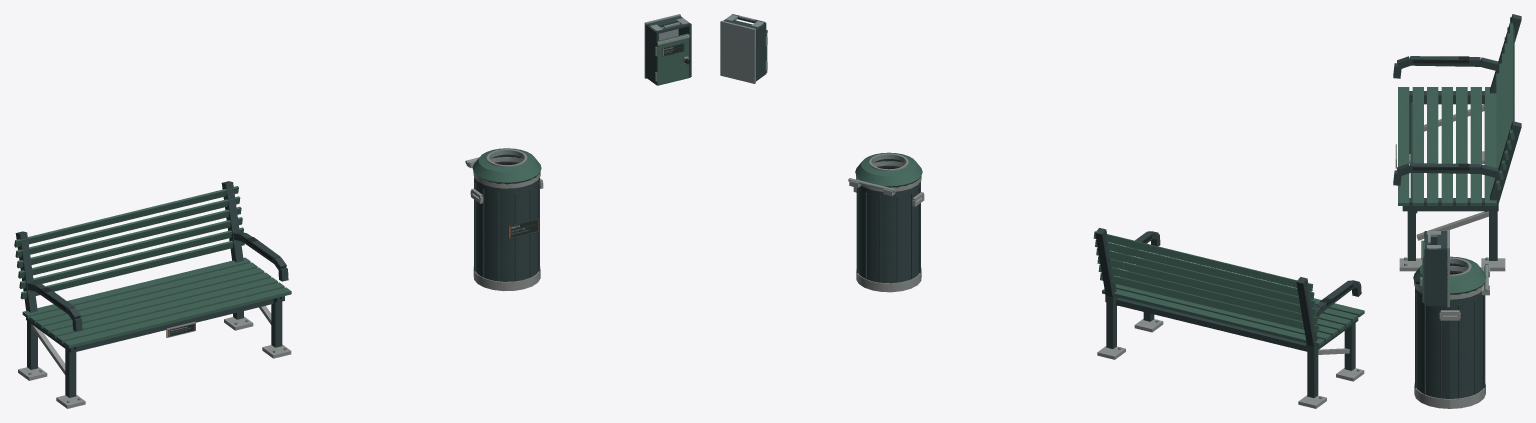
File: PZ_StreetBench_TrashCan.glb
The picture shows the model from 3 angles, left to right: view 1: azimuth 30°, elevation 25°; view 2: azimuth 150°, elevation 25°; view 3: azimuth 270°, elevation 25°; orthographic projection. The views are drawn at different scales.
Visible parts, largest first — view 1: RENDER_Bin_Body_FIXED_Body_HollowOpenSteelCylinder_SlatePowd, RENDER_Bench_Main_FIXED_SeatSlat_01_Separate_MossPowdercoat, RENDER_Bench_Main_FIXED_BackrestSlat_06_Separate_MossPowderc, RENDER_Bench_Main_FIXED_BackrestSlat_05_Separate_MossPowderc, RENDER_Bench_Main_FIXED_BackrestSlat_04_Separate_MossPowderc, RENDER_Bench_Main_FIXED_BackrestSlat_03_Separate_MossPowderc, RENDER_Bench_Main_FIXED_BackrestSlat_02_Separate_MossPowderc, RENDER_Bench_Main_FIXED_SeatSlat_02_Separate_MossPowdercoat, RENDER_Bench_Main_FIXED_BackrestSlat_01_Separate_MossPowderc, RENDER_Bench_Main_FIXED_SeatSlat_03_Separate_MossPowdercoat, RENDER_Bench_Main_FIXED_SeatSlat_04_Separate_MossPowdercoat, RENDER_Bench_Main_FIXED_SeatSlat_05_Separate_MossPowdercoat (+9 smaller); view 2: RENDER_Bin_Body_FIXED_Body_HollowOpenSteelCylinder_SlatePowd, RENDER_AshContainer_WallHousing_FIXED_WallMount_Backplate_St, RENDER_Bench_Main_FIXED_SeatSlat_07_Separate_MossPowdercoat, RENDER_Bench_Main_FIXED_BackrestSlat_02_Separate_MossPowderc, RENDER_Bench_Main_FIXED_BackrestSlat_01_Separate_MossPowderc, RENDER_Bench_Main_FIXED_BackrestSlat_03_Separate_MossPowderc, RENDER_Bench_Main_FIXED_BackrestSlat_04_Separate_MossPowderc, RENDER_Bench_Main_FIXED_BackrestSlat_05_Separate_MossPowderc, RENDER_Bench_Main_FIXED_BackrestSlat_06_Separate_MossPowderc, RENDER_Bench_Main_FIXED_CrossMember_+0.232_SlatePowdercoat, RENDER_Bin_Lid_HINGE_X_Lid_OverhangSlopedCover_MossPowdercoa, RENDER_Bench_Main_FIXED_SeatSlat_06_Separate_MossPowdercoat (+3 smaller); view 3: RENDER_Bin_Body_FIXED_Body_HollowOpenSteelCylinder_SlatePowd, RENDER_AshContainer_WallHousing_FIXED_Housing_RightWall_Slat, RENDER_Bench_Main_FIXED_SeatSlat_03_Separate_MossPowdercoat, RENDER_Bench_Main_FIXED_SeatSlat_04_Separate_MossPowdercoat, RENDER_Bench_Main_FIXED_SeatSlat_05_Separate_MossPowdercoat, RENDER_Bench_Main_FIXED_SeatSlat_06_Separate_MossPowdercoat, RENDER_Bench_Main_FIXED_SeatSlat_02_Separate_MossPowdercoat, RENDER_Bench_Main_FIXED_SeatSlat_01_Separate_MossPowdercoat, RENDER_Bench_Main_FIXED_SeatSlat_07_Separate_MossPowdercoat, RENDER_Bin_Lid_HINGE_X_Lid_OverhangSlopedCover_MossPowdercoa, RENDER_Bin_Body_FIXED_Base_ReinforcedSkirt_GalvanizedSteel, RENDER_Bench_Main_FIXED_RIGHT_SeatSideSupport_SlatePowdercoa (+34 smaller).
Boxes of the visible parts, x1,y1,x2,y2 form: RENDER_Bin_Body_FIXED_Body_HollowOpenSteelCylinder_SlatePowd: (474, 178, 539, 281); RENDER_Bench_Main_FIXED_SeatSlat_01_Separate_MossPowdercoat: (63, 287, 291, 348); RENDER_Bench_Main_FIXED_BackrestSlat_06_Separate_MossPowderc: (14, 186, 238, 247); RENDER_Bench_Main_FIXED_BackrestSlat_05_Separate_MossPowderc: (15, 196, 240, 257); RENDER_Bench_Main_FIXED_BackrestSlat_04_Separate_MossPowderc: (17, 206, 241, 268); RENDER_Bench_Main_FIXED_BackrestSlat_03_Separate_MossPowderc: (18, 217, 242, 278); RENDER_Bench_Main_FIXED_BackrestSlat_02_Separate_MossPowderc: (19, 227, 243, 288); RENDER_Bench_Main_FIXED_SeatSlat_02_Separate_MossPowdercoat: (56, 282, 284, 343); RENDER_Bench_Main_FIXED_BackrestSlat_01_Separate_MossPowderc: (20, 240, 244, 299); RENDER_Bench_Main_FIXED_SeatSlat_03_Separate_MossPowdercoat: (50, 277, 277, 338); RENDER_Bench_Main_FIXED_SeatSlat_04_Separate_MossPowdercoat: (43, 272, 271, 333); RENDER_Bench_Main_FIXED_SeatSlat_05_Separate_MossPowdercoat: (36, 267, 264, 328); RENDER_Bin_Body_FIXED_Body_HollowOpenSteelCylinder_SlatePowd: (858, 182, 920, 283); RENDER_AshContainer_WallHousing_FIXED_WallMount_Backplate_St: (720, 20, 755, 83); RENDER_Bench_Main_FIXED_SeatSlat_07_Separate_MossPowdercoat: (1102, 289, 1324, 346); RENDER_Bench_Main_FIXED_BackrestSlat_02_Separate_MossPowderc: (1098, 264, 1318, 324); RENDER_Bench_Main_FIXED_BackrestSlat_01_Separate_MossPowderc: (1100, 273, 1319, 332); RENDER_Bench_Main_FIXED_BackrestSlat_03_Separate_MossPowderc: (1097, 256, 1316, 316); RENDER_Bench_Main_FIXED_BackrestSlat_04_Separate_MossPowderc: (1096, 248, 1315, 307); RENDER_Bench_Main_FIXED_BackrestSlat_05_Separate_MossPowderc: (1095, 240, 1314, 299); RENDER_Bench_Main_FIXED_BackrestSlat_06_Separate_MossPowderc: (1093, 231, 1313, 291); RENDER_Bench_Main_FIXED_CrossMember_+0.232_SlatePowdercoat: (1116, 297, 1306, 351); RENDER_Bin_Lid_HINGE_X_Lid_OverhangSlopedCover_MossPowdercoa: (855, 152, 922, 187); RENDER_Bench_Main_FIXED_SeatSlat_06_Separate_MossPowdercoat: (1115, 284, 1331, 341); RENDER_Bin_Body_FIXED_Body_HollowOpenSteelCylinder_SlatePowd: (1415, 288, 1483, 398); RENDER_AshContainer_WallHousing_FIXED_Housing_RightWall_Slat: (1424, 248, 1447, 305); RENDER_Bench_Main_FIXED_SeatSlat_03_Separate_MossPowdercoat: (1427, 87, 1438, 205); RENDER_Bench_Main_FIXED_SeatSlat_04_Separate_MossPowdercoat: (1441, 87, 1452, 205); RENDER_Bench_Main_FIXED_SeatSlat_05_Separate_MossPowdercoat: (1456, 87, 1467, 205); RENDER_Bench_Main_FIXED_SeatSlat_06_Separate_MossPowdercoat: (1470, 87, 1481, 205); RENDER_Bench_Main_FIXED_SeatSlat_02_Separate_MossPowdercoat: (1412, 87, 1423, 205); RENDER_Bench_Main_FIXED_SeatSlat_01_Separate_MossPowdercoat: (1398, 87, 1409, 205); RENDER_Bench_Main_FIXED_SeatSlat_07_Separate_MossPowdercoat: (1485, 87, 1496, 205); RENDER_Bin_Lid_HINGE_X_Lid_OverhangSlopedCover_MossPowdercoa: (1413, 256, 1486, 294); RENDER_Bin_Body_FIXED_Base_ReinforcedSkirt_GalvanizedSteel: (1414, 383, 1485, 408); RENDER_Bench_Main_FIXED_RIGHT_SeatSideSupport_SlatePowdercoa: (1402, 198, 1498, 211).
Size of the model in its own units: 4.8 by 1.61 by 0.7869.
9 materials, 9 textured.
